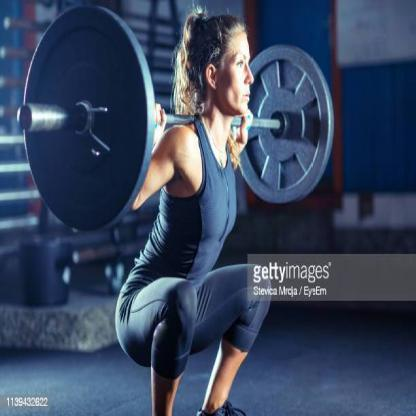barbell: (14, 0, 336, 235)
